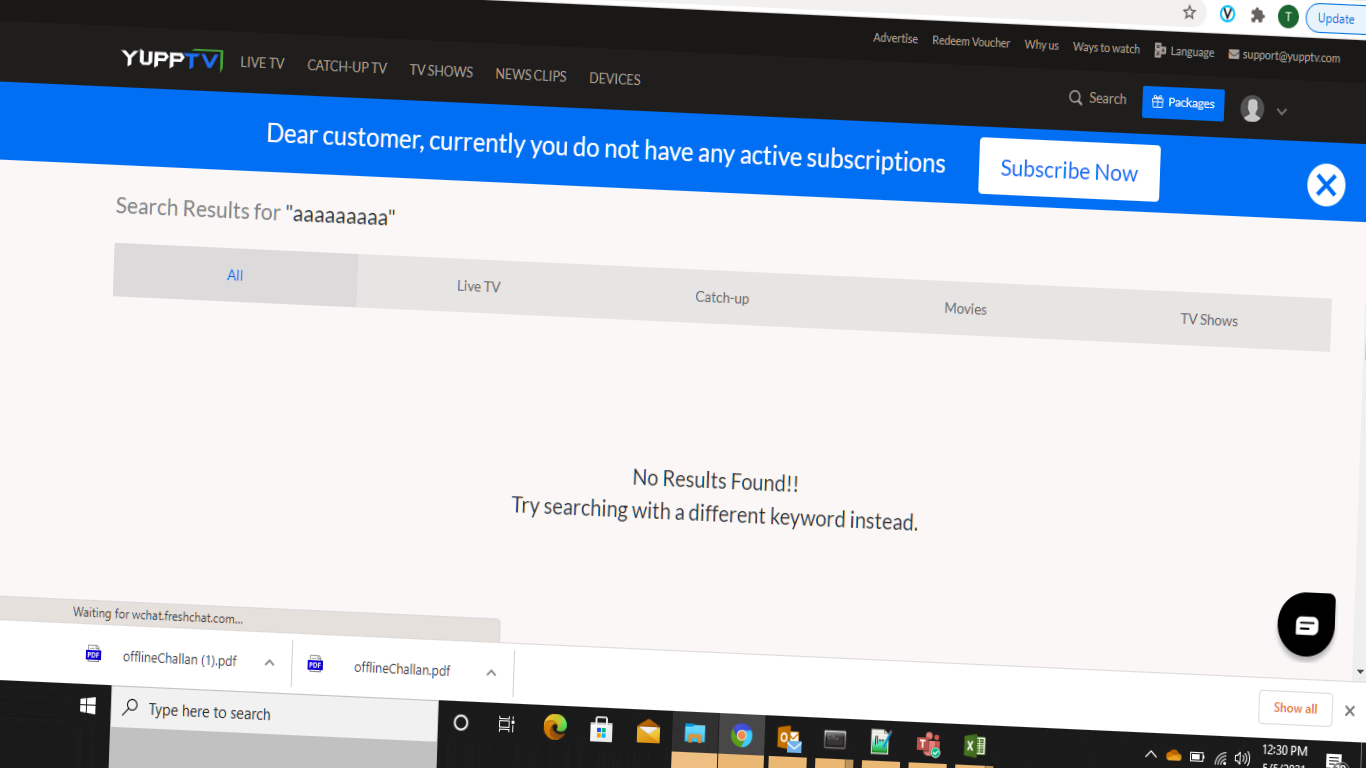noresultsfound: (492, 427, 936, 548)
profileicon: (1228, 86, 1293, 130)
searchicon: (1067, 79, 1133, 122)
